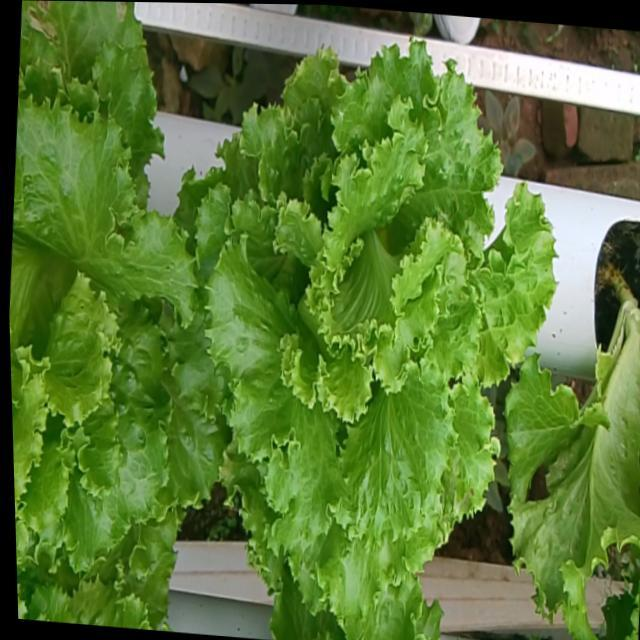Mature: (186, 29, 544, 602), (9, 78, 215, 557)
